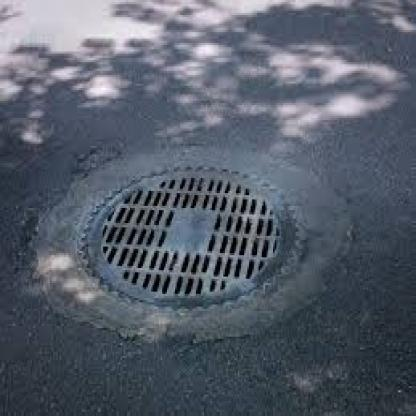manholes: (40, 139, 329, 324)
